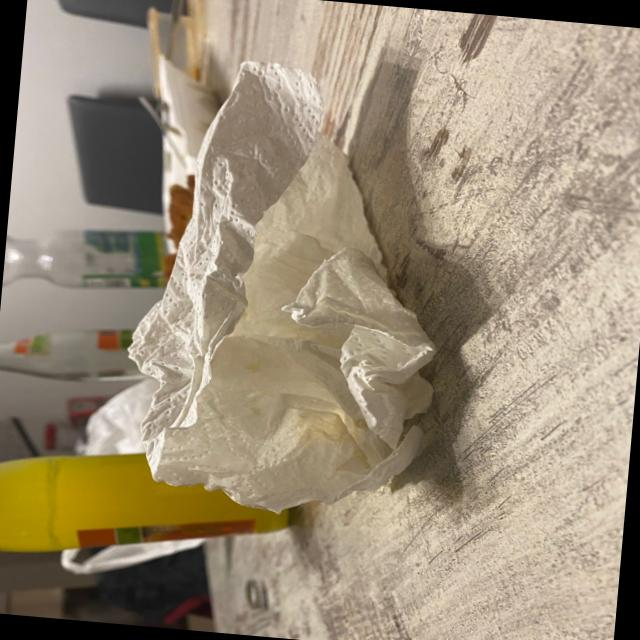organic waste: (109, 48, 465, 525)
